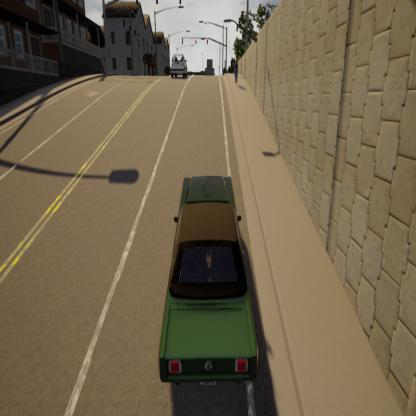Cars: (147, 164, 261, 392), (166, 52, 190, 81)
Pedestrian: (231, 55, 242, 89)
